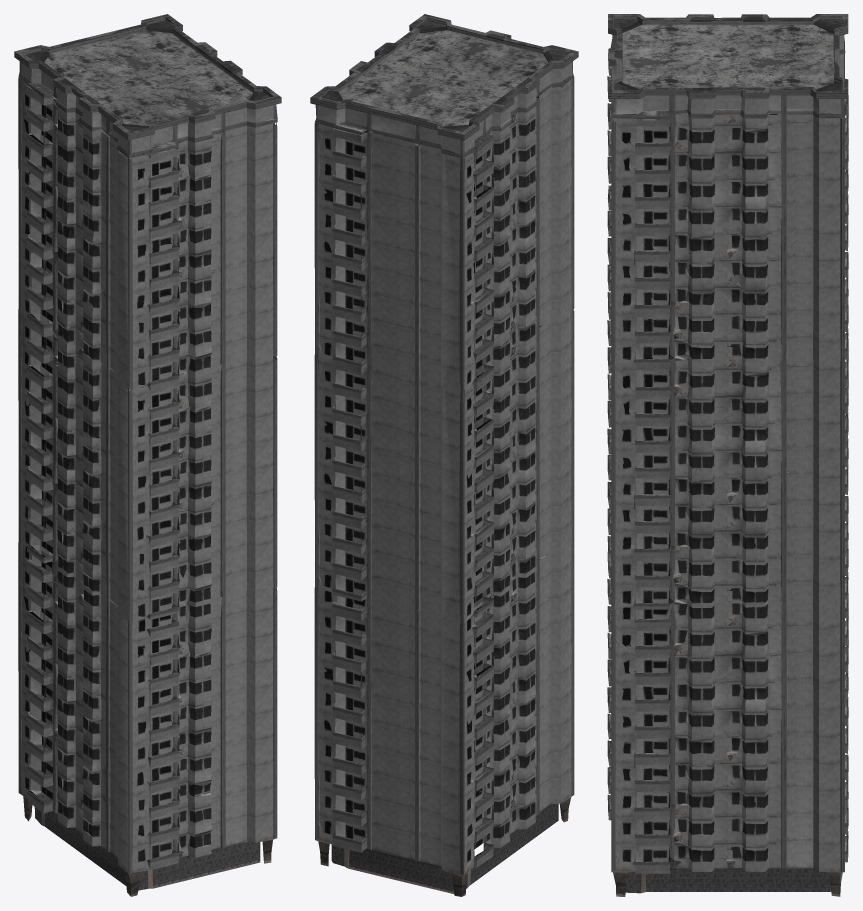
Rendered from SM_Dist_Build2_3.fbx.
3 renders of one model, left to right at view 1: azimuth 30°, elevation 25°; view 2: azimuth 150°, elevation 25°; view 3: azimuth 270°, elevation 25°, orthographic. The views are drawn at different scales.
Parts seen in each view (by area): view 1: SM_Dist_Build2_3_LOD0; view 2: SM_Dist_Build2_3_LOD0; view 3: SM_Dist_Build2_3_LOD0.
Part boxes in pixels (x1,y1,x2,y2): SM_Dist_Build2_3_LOD0: (14,14,281,896); SM_Dist_Build2_3_LOD0: (310,14,578,896); SM_Dist_Build2_3_LOD0: (607,14,848,896).
Size of the model in its own units: 3735 by 4802 by 17723.
1 material, 1 textured.
